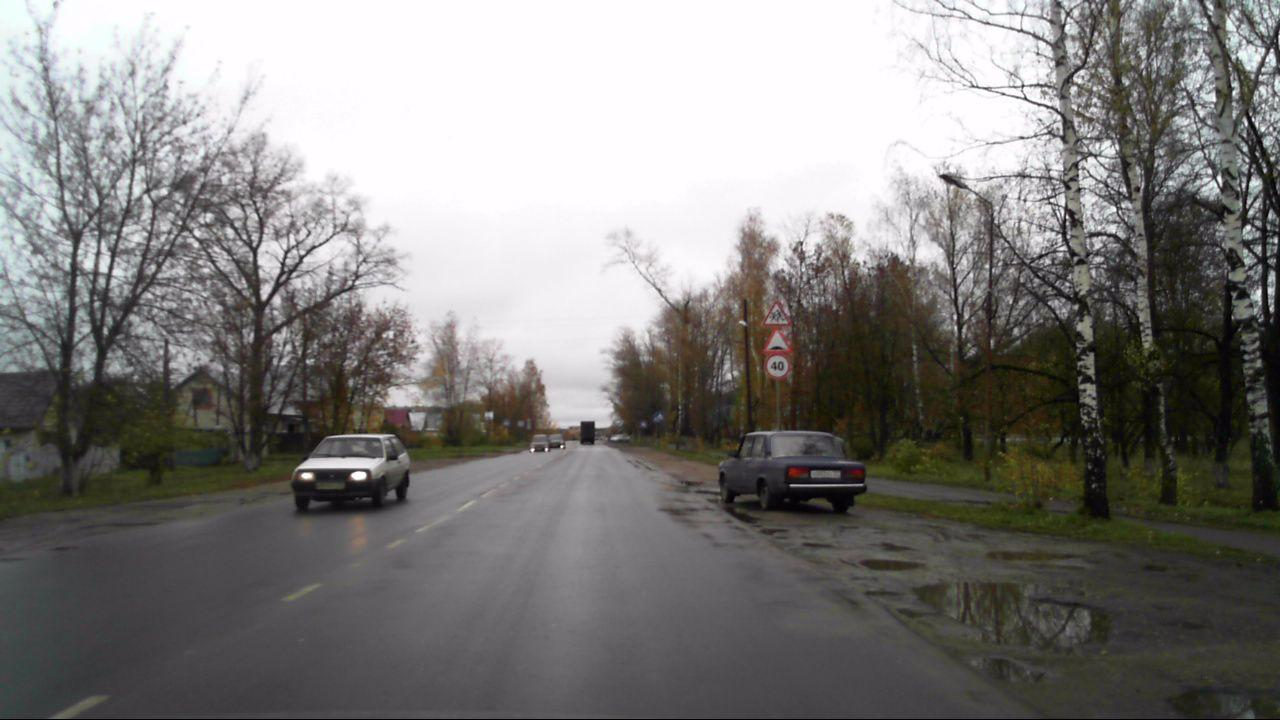road_sign: (761, 299, 792, 327), (762, 328, 794, 352), (765, 353, 791, 379)
